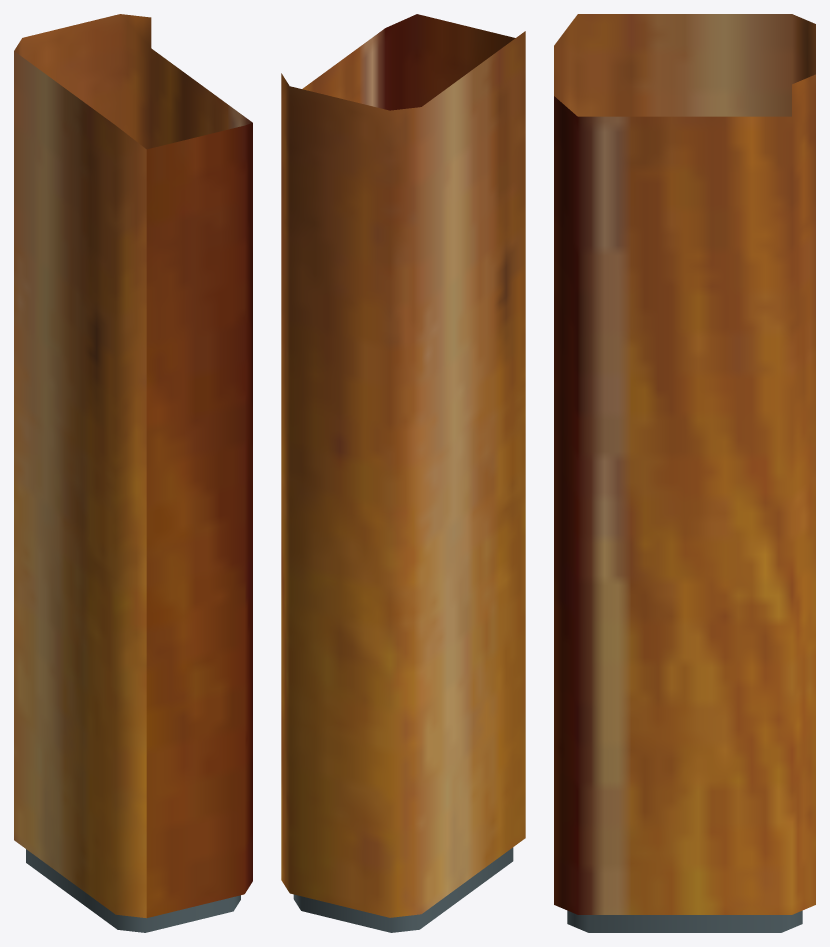
3 views of the same model, side by side, from view 1: azimuth 30°, elevation 25°; view 2: azimuth 150°, elevation 25°; view 3: azimuth 270°, elevation 25° (orthographic). The views are drawn at different scales.
Parts seen in each view (by area): view 1: Joint_0_Object_0, Joint_0_Object_1; view 2: Joint_0_Object_0, Joint_0_Object_1; view 3: Joint_0_Object_0, Joint_0_Object_1.
Boxes of the visible parts, x1,y1,x2,y2 form: Joint_0_Object_0: [14, 14, 252, 918]; Joint_0_Object_1: [26, 849, 240, 932]; Joint_0_Object_0: [281, 14, 525, 917]; Joint_0_Object_1: [293, 847, 513, 932]; Joint_0_Object_0: [554, 14, 815, 914]; Joint_0_Object_1: [567, 910, 802, 932].
Size of the model in its own units: 70 by 395 by 110.
